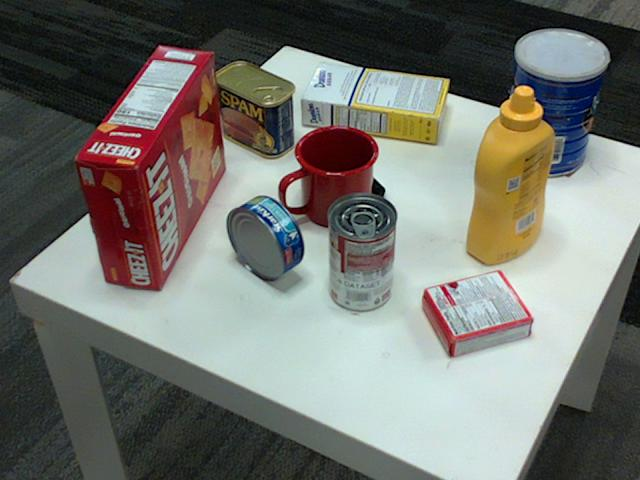cracker_box: (74, 43, 226, 287)
gelatin_box: (420, 271, 534, 357)
large_marker: (326, 137, 383, 198)
master_chef_can: (500, 29, 607, 177)
mug: (282, 123, 380, 225)
mustard_bottle: (465, 86, 555, 263)
potted_meat_can: (211, 63, 295, 157)
sugar_box: (302, 62, 451, 142)
tomato_soup_can: (328, 192, 397, 311)
tuna_fish_can: (227, 195, 304, 281)
